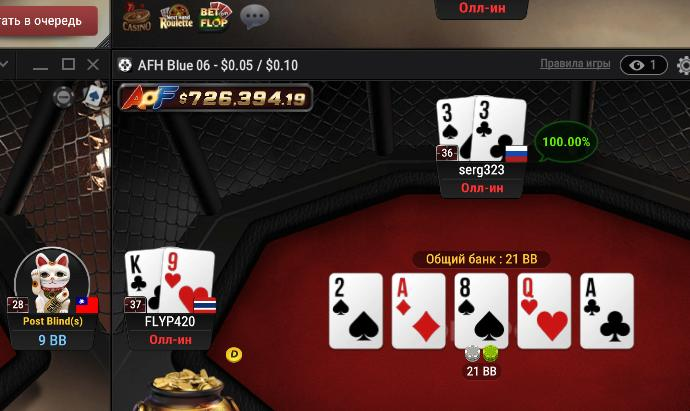2s: (330, 273, 383, 349)
3c: (474, 94, 527, 162)
3s: (435, 97, 472, 161)
8s: (456, 274, 508, 348)
9h: (161, 247, 215, 314)
Ac: (581, 273, 633, 347)
Ad: (393, 274, 445, 349)
Kc: (123, 250, 161, 312)
Qh: (518, 273, 571, 348)
